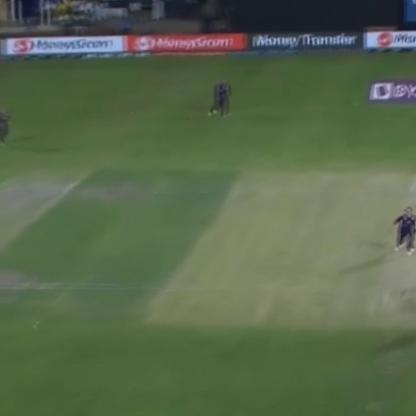ball: (29, 323, 38, 332), (35, 315, 42, 326)
